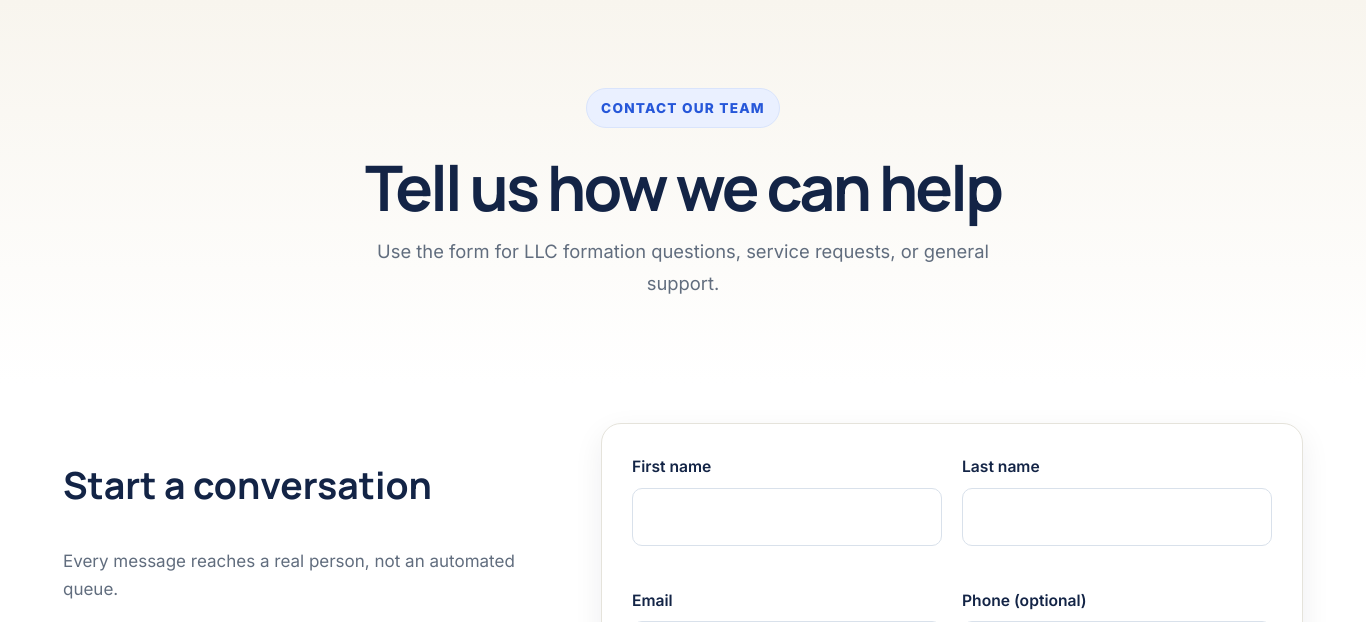
Test: Contact page › rejects a numbers-only name
In the field labelled "First name": [787, 517] box [632, 488, 942, 546], type "12345"
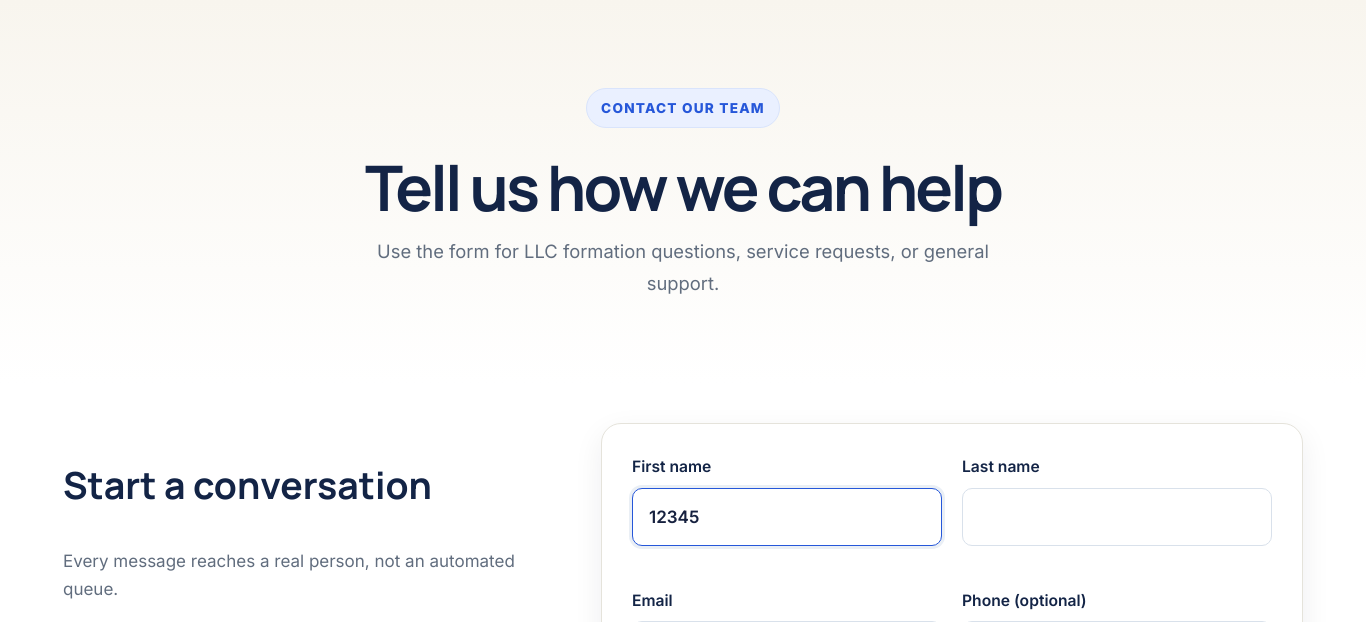
Press Tab
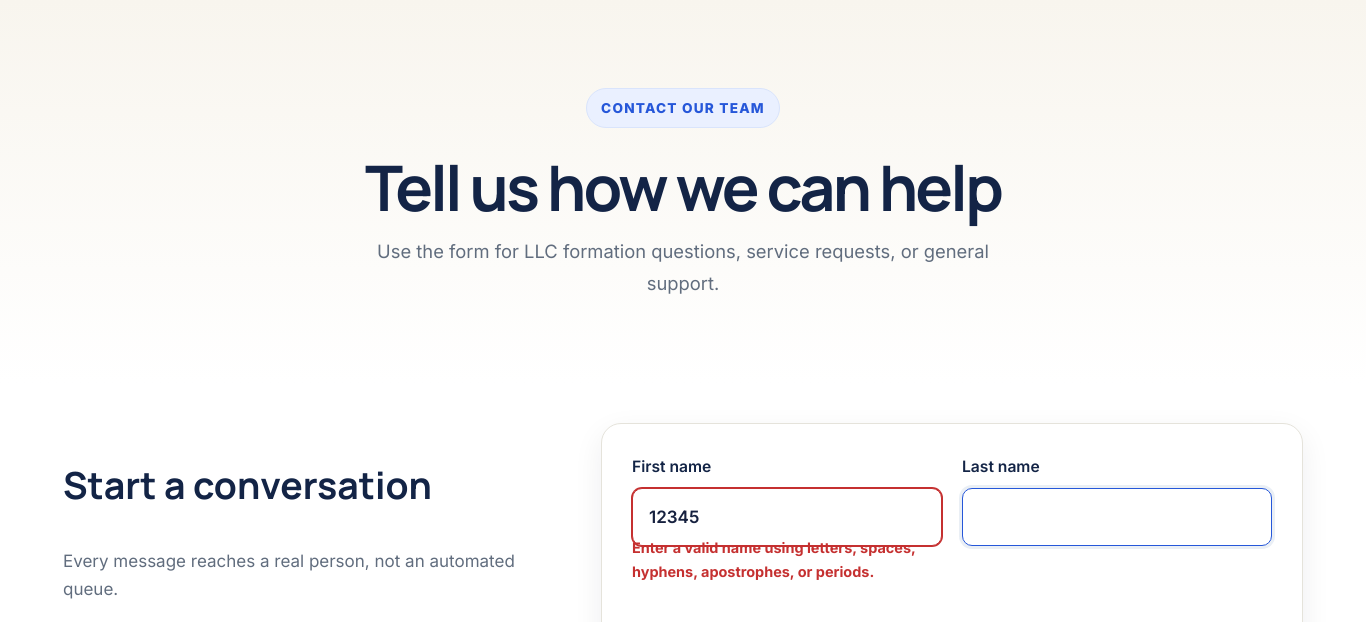
Now the text "Enter a valid name" is shown, box [632, 539, 915, 580]
